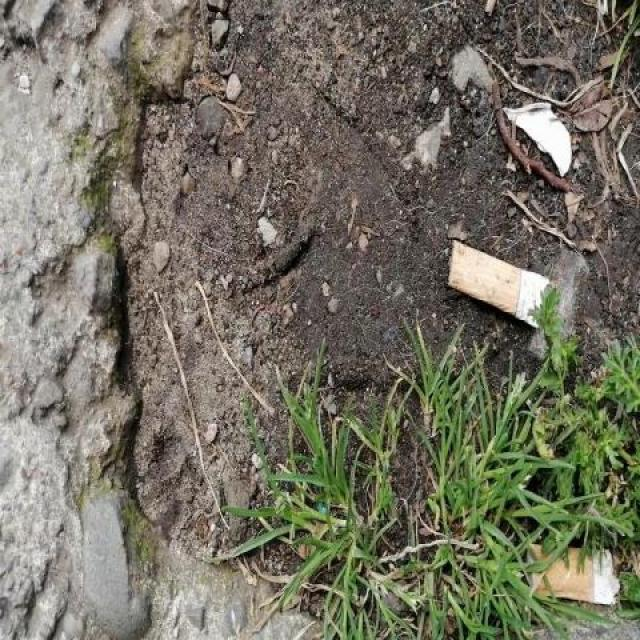non-organic waste: (442, 236, 557, 335), (524, 538, 624, 614)
